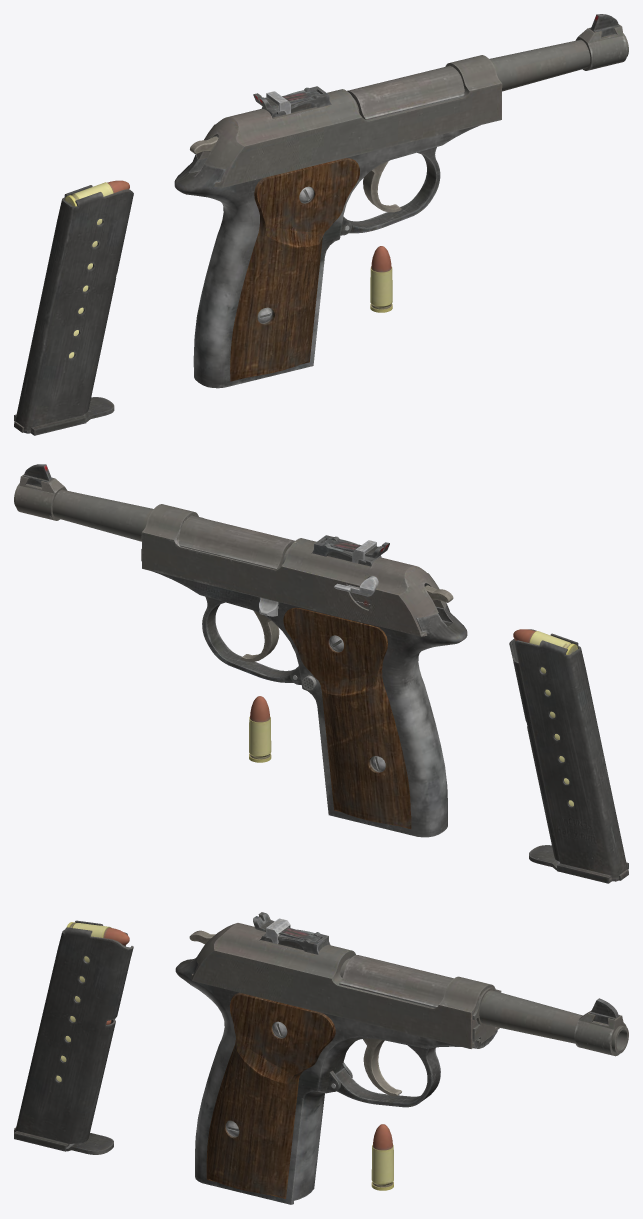
File: ph_pistol.glb
The picture shows the model from 3 angles, top to bottom: view 1: azimuth 30°, elevation 25°; view 2: azimuth 150°, elevation 25°; view 3: azimuth 330°, elevation 25°; orthographic projection.
Visible parts, largest first — view 1: service_pistol_pistol_a, service_pistol_magazine_loaded, service_pistol_slide_a, service_pistol_bullet, service_pistol_trigger_a; view 2: service_pistol_pistol_a, service_pistol_magazine_loaded, service_pistol_slide_a, service_pistol_bullet, service_pistol_trigger_a; view 3: service_pistol_pistol_a, service_pistol_magazine_loaded, service_pistol_slide_a, service_pistol_bullet, service_pistol_trigger_a.
Part boxes in pixels (bbox=[...]): service_pistol_pistol_a: bbox=[174, 14, 628, 388]; service_pistol_magazine_loaded: bbox=[14, 180, 133, 435]; service_pistol_slide_a: bbox=[197, 55, 502, 187]; service_pistol_bullet: bbox=[370, 246, 392, 312]; service_pistol_trigger_a: bbox=[363, 161, 401, 212]; service_pistol_pistol_a: bbox=[14, 464, 467, 837]; service_pistol_magazine_loaded: bbox=[509, 629, 628, 883]; service_pistol_slide_a: bbox=[141, 504, 450, 636]; service_pistol_bullet: bbox=[249, 696, 271, 762]; service_pistol_trigger_a: bbox=[240, 611, 279, 661]; service_pistol_pistol_a: bbox=[175, 955, 628, 1204]; service_pistol_magazine_loaded: bbox=[14, 920, 133, 1154]; service_pistol_slide_a: bbox=[190, 912, 501, 1048]; service_pistol_bullet: bbox=[371, 1124, 393, 1190]; service_pistol_trigger_a: bbox=[363, 1038, 401, 1096].
Size of the model in its own units: 0.3016 by 0.1307 by 0.0318.
1 material, 1 textured.
